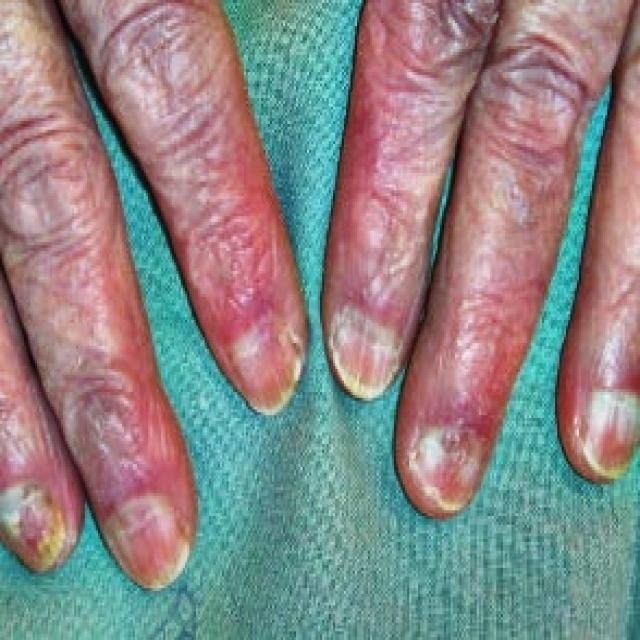Psoriasis-pictures-Lichen-Planus: (20, 315, 640, 596)
